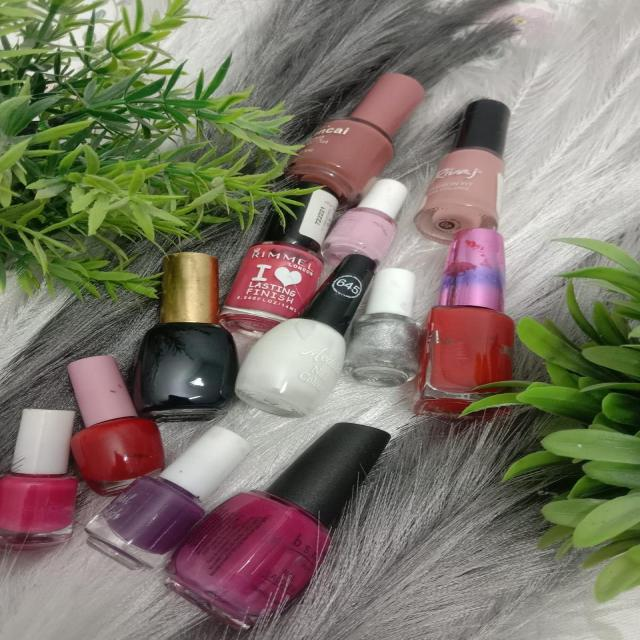nail polish: (0, 243, 535, 625), (274, 64, 538, 240)
